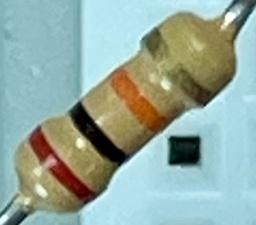Black: (63, 99, 131, 170)
Orange: (101, 63, 172, 137)
Red: (24, 124, 101, 210)
Side-Gold: (140, 25, 220, 109)
